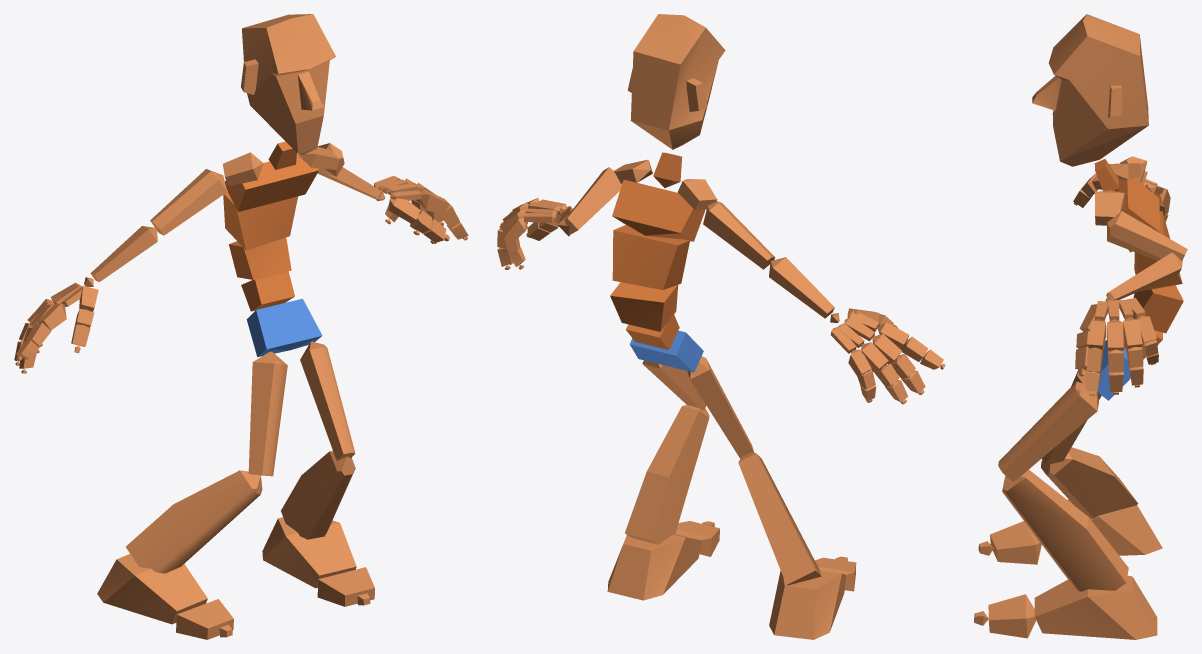
The picture shows the model from 3 angles, left to right: view 1: azimuth 30°, elevation 25°; view 2: azimuth 150°, elevation 25°; view 3: azimuth 270°, elevation 25°; orthographic projection. The views are drawn at different scales.
Parts seen in each view (by area): view 1: BOPED_Head, BOPED_R_leg, BOPED_R_foot, BOPED_R_foot01, BOPED_L_leg, BOPED_R_legup, BOPED_L_legup, Bone01, Bone04, Bone05, BOPED_R_arm_upper, Bone03 (+7 smaller); view 2: BOPED_Head, BOPED_L_leg, BOPED_R_foot01, BOPED_R_leg, BOPED_R_foot, Bone04, Bone05, Bone03, BOPED_R_legup, BOPED_R_arm_upper, Bone01, BOPED_R_arm_fore (+8 smaller); view 3: BOPED_Head, BOPED_L_leg, BOPED_R_foot01, BOPED_R_leg, BOPED_L_legup, BOPED_R_foot, BOPED_L_arm_upper, BOPED_R_foot_toe01, BOPED_R_foot_toe04, Bone03, Bone05, BOPED_L_arm_fore (+13 smaller).
Boxes of the visible parts, x1,y1,x2,y2 form: BOPED_Head: [241, 14, 335, 154]; BOPED_R_leg: [125, 470, 262, 573]; BOPED_R_foot: [97, 554, 207, 624]; BOPED_R_foot01: [262, 517, 356, 588]; BOPED_L_leg: [281, 450, 355, 539]; BOPED_R_legup: [248, 351, 287, 476]; BOPED_L_legup: [300, 341, 355, 460]; Bone01: [246, 298, 322, 356]; Bone04: [223, 192, 297, 250]; Bone05: [225, 154, 318, 211]; BOPED_R_arm_upper: [150, 169, 227, 235]; Bone03: [229, 237, 291, 279]; BOPED_Head: [627, 14, 725, 149]; BOPED_L_leg: [625, 405, 709, 544]; BOPED_R_foot01: [607, 534, 701, 600]; BOPED_R_leg: [738, 452, 821, 585]; BOPED_R_foot: [769, 570, 846, 639]; Bone04: [612, 225, 689, 289]; Bone05: [612, 179, 705, 241]; Bone03: [610, 282, 678, 331]; BOPED_R_legup: [687, 356, 753, 458]; BOPED_R_arm_upper: [703, 201, 775, 269]; Bone01: [629, 330, 703, 372]; BOPED_R_arm_fore: [769, 257, 834, 318]; BOPED_Head: [1032, 14, 1148, 166]; BOPED_L_leg: [1002, 469, 1128, 591]; BOPED_R_foot01: [1034, 575, 1157, 639]; BOPED_R_leg: [1041, 447, 1138, 518]; BOPED_L_legup: [998, 381, 1098, 481]; BOPED_R_foot: [1067, 499, 1162, 555]; BOPED_L_arm_upper: [1107, 211, 1187, 260]; BOPED_R_foot_toe01: [990, 521, 1041, 564]; BOPED_R_foot_toe04: [988, 594, 1036, 638]; Bone03: [1133, 285, 1183, 333]; Bone05: [1117, 178, 1160, 252]; BOPED_L_arm_fore: [1106, 252, 1182, 300].
Size of the model in its own units: 147 by 176 by 57.59.
